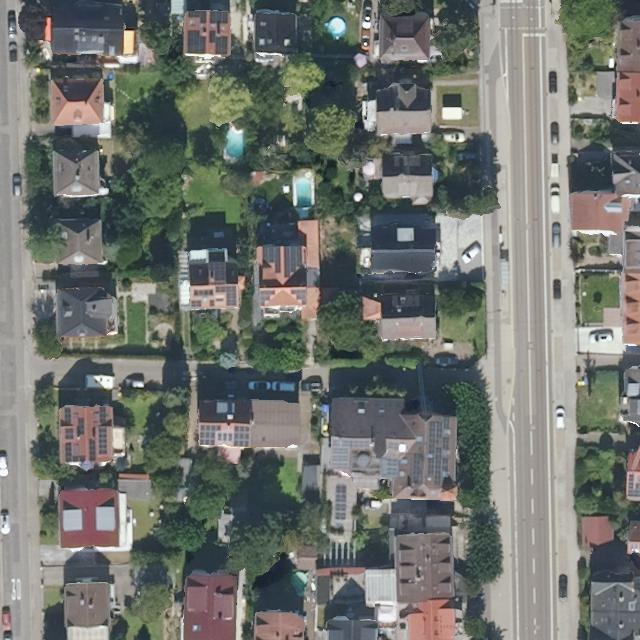PV: (410, 415, 453, 487), (328, 438, 374, 472), (214, 423, 253, 448), (329, 482, 349, 523), (282, 241, 304, 275), (197, 423, 224, 448), (212, 283, 238, 308), (262, 242, 282, 274), (64, 440, 86, 465), (208, 29, 228, 55), (288, 288, 309, 311), (207, 260, 227, 282), (188, 30, 207, 53), (258, 288, 281, 307), (97, 427, 109, 457), (209, 9, 230, 25), (87, 437, 97, 465), (189, 8, 208, 22), (97, 403, 107, 426), (63, 406, 72, 424)
